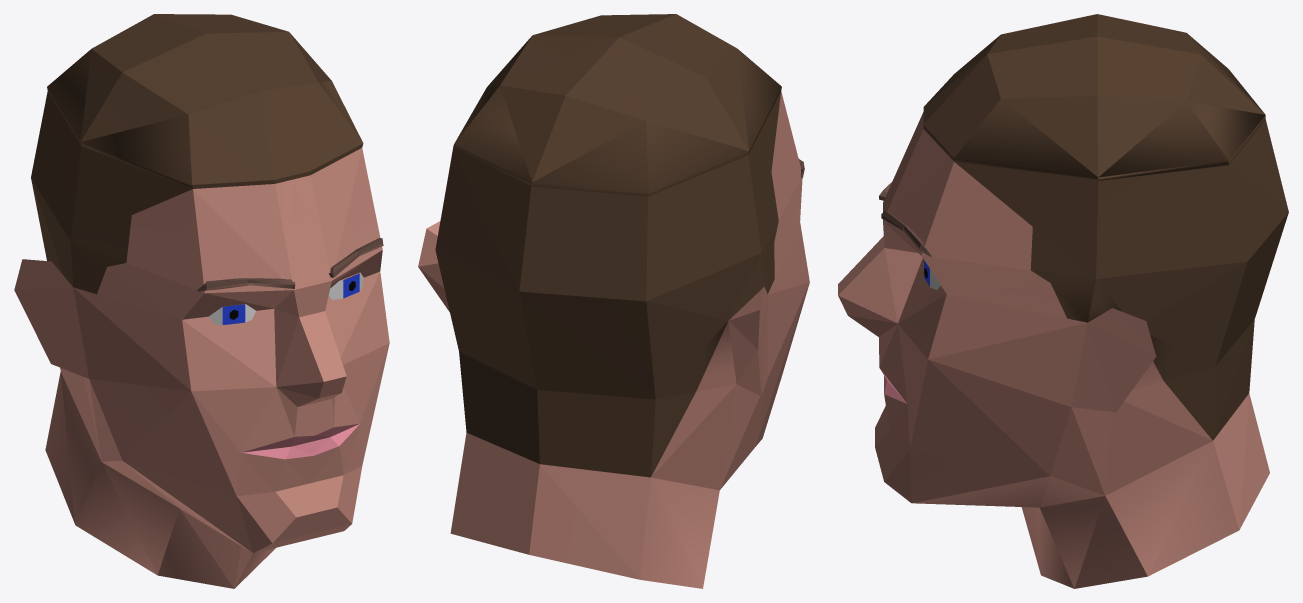
Rendered from finished-head.glb.
3 views of the same model, side by side, from view 1: azimuth 30°, elevation 25°; view 2: azimuth 150°, elevation 25°; view 3: azimuth 270°, elevation 25° (orthographic). The views are drawn at different scales.
Visible parts, largest first — view 1: Plane; view 2: Plane; view 3: Plane.
Part boxes in pixels (<box>): Plane: <box>14,14,389,588</box>; Plane: <box>418,14,809,588</box>; Plane: <box>838,14,1288,588</box>.
Bounding box in the file's own units: 0.5817 × 0.9126 × 0.6924.
Materials: 7 (1 with a texture image).
